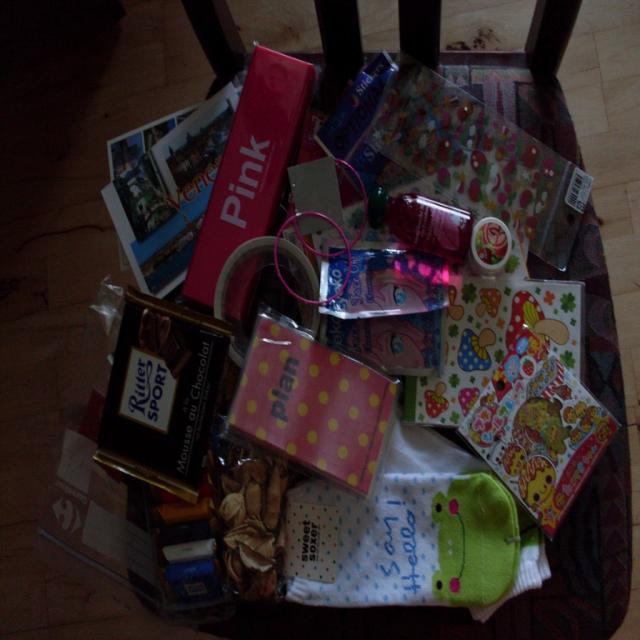rittersport: (116, 348, 184, 434)
